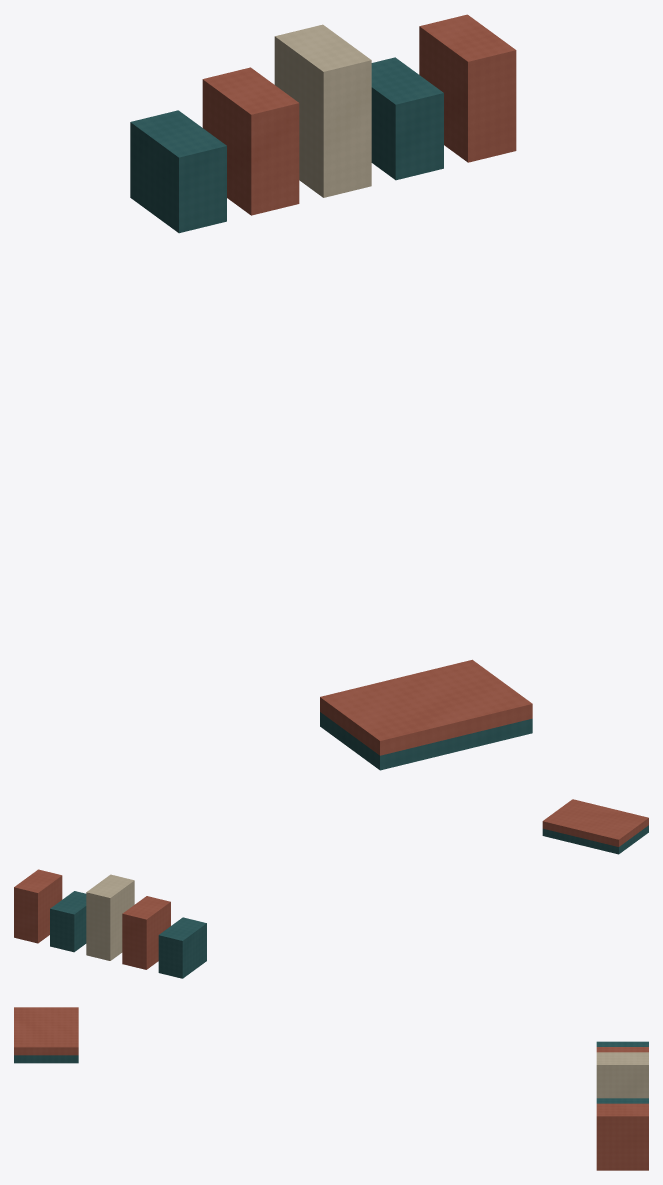
File: detail_props.glb
3 renders of one model, top to bottom at view 1: azimuth 30°, elevation 25°; view 2: azimuth 150°, elevation 25°; view 3: azimuth 270°, elevation 25°, orthographic. The views are drawn at different scales.
Parts seen in each view (by area): view 1: SUI_DeskBook_2, SUI_TableBook_1, SUI_DeskBook_4, SUI_DeskBook_1, SUI_DeskBook_0, SUI_DeskBook_3, SUI_TableBook_0; view 2: SUI_DeskBook_2, SUI_TableBook_1, SUI_DeskBook_1, SUI_DeskBook_4, SUI_DeskBook_0, SUI_DeskBook_3, SUI_TableBook_0; view 3: SUI_DeskBook_4, SUI_TableBook_1, SUI_DeskBook_2, SUI_TableBook_0, SUI_DeskBook_3, SUI_DeskBook_0, SUI_DeskBook_1.
Part boxes in pixels (bbox=[...]): SUI_DeskBook_2: bbox=[274, 24, 371, 197]; SUI_TableBook_1: bbox=[320, 659, 532, 755]; SUI_DeskBook_4: bbox=[419, 14, 516, 162]; SUI_DeskBook_1: bbox=[202, 67, 299, 215]; SUI_DeskBook_0: bbox=[130, 110, 226, 233]; SUI_DeskBook_3: bbox=[371, 57, 443, 180]; SUI_TableBook_0: bbox=[320, 712, 532, 770]; SUI_DeskBook_2: bbox=[86, 874, 134, 960]; SUI_TableBook_1: bbox=[542, 799, 648, 846]; SUI_DeskBook_1: bbox=[122, 896, 170, 969]; SUI_DeskBook_4: bbox=[14, 869, 62, 943]; SUI_DeskBook_0: bbox=[158, 917, 206, 978]; SUI_DeskBook_3: bbox=[50, 891, 86, 952]; SUI_TableBook_0: bbox=[542, 825, 648, 854]; SUI_DeskBook_4: bbox=[596, 1103, 648, 1170]; SUI_TableBook_1: bbox=[14, 1007, 78, 1055]; SUI_DeskBook_2: bbox=[596, 1052, 648, 1098]; SUI_TableBook_0: bbox=[14, 1055, 78, 1063]; SUI_DeskBook_3: bbox=[596, 1098, 648, 1103]; SUI_DeskBook_0: bbox=[596, 1041, 648, 1046]; SUI_DeskBook_1: bbox=[596, 1047, 648, 1052].
Size of the model in its own units: 1.69 by 0.435 by 2.55.
3 materials, 3 textured.
